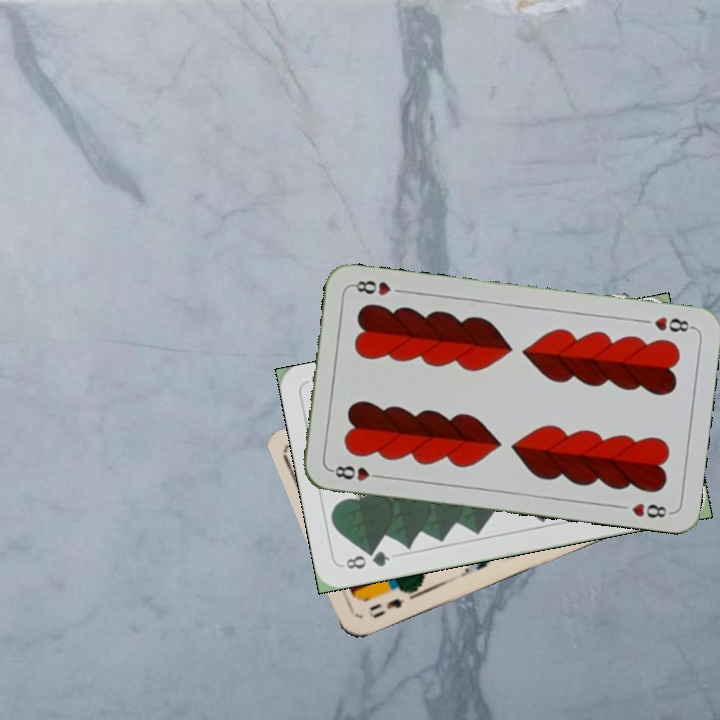EO: (365, 586, 417, 621)
G8: (341, 546, 393, 572)
H8: (327, 461, 386, 484), (650, 312, 696, 335)
